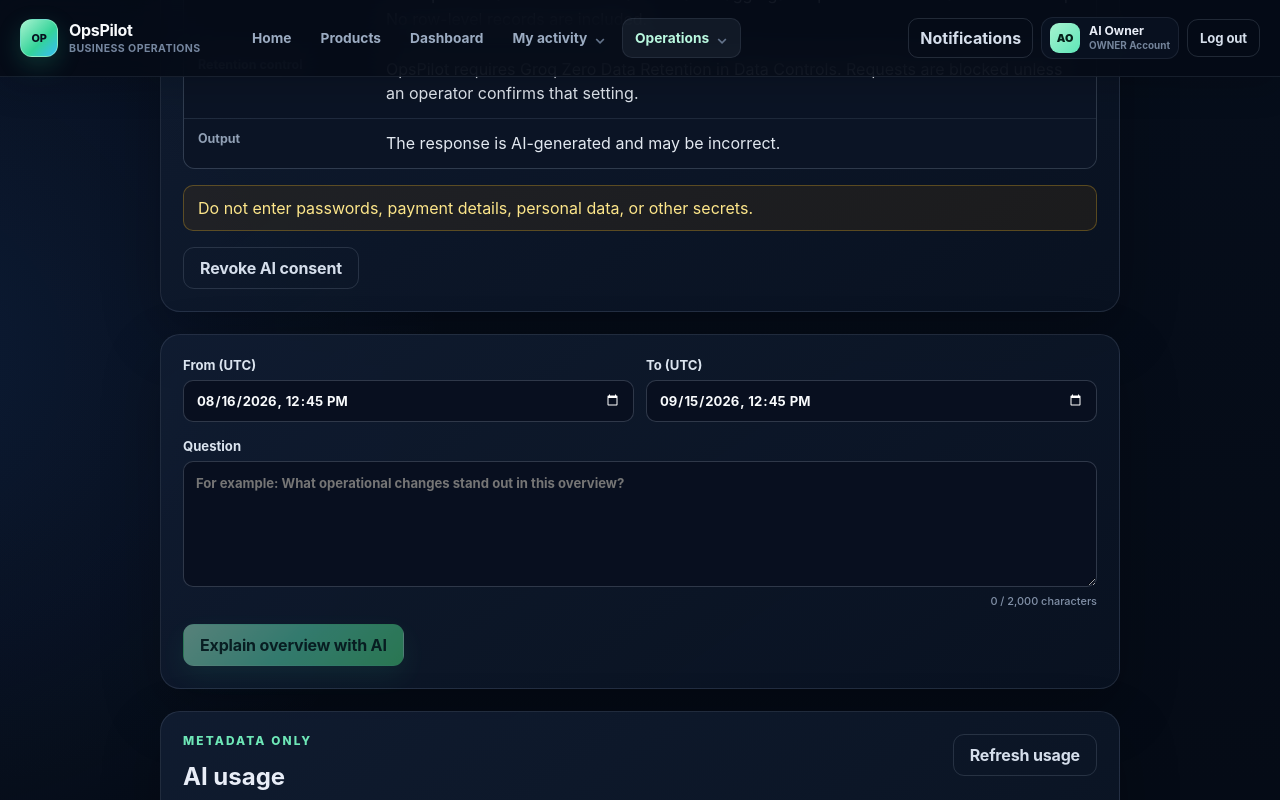
it: Phase 7 AI UI › keeps owner metrics separate, validates UTC range, shows escalation, and loads safe usage
(page scrolled)
Expected: the heading "AI usage" is shown, 183,762 -> 285,790
Replace the text in the field labelled "From (UTC)" with "2026-08-03T00:00": (408, 401) 183,380 -> 634,422
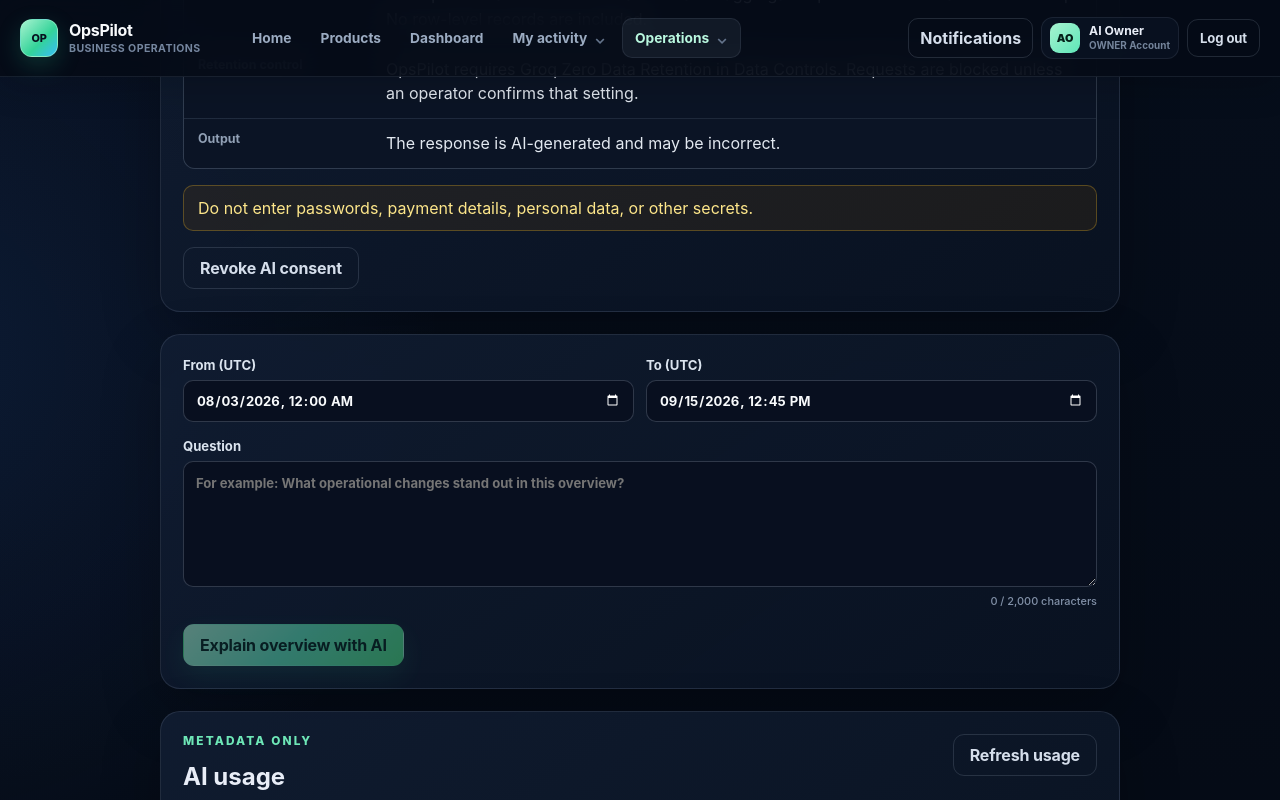
Replace the text in the field labelled "To (UTC)" with "2026-08-02T00:00": (872, 401) 646,380 -> 1097,422
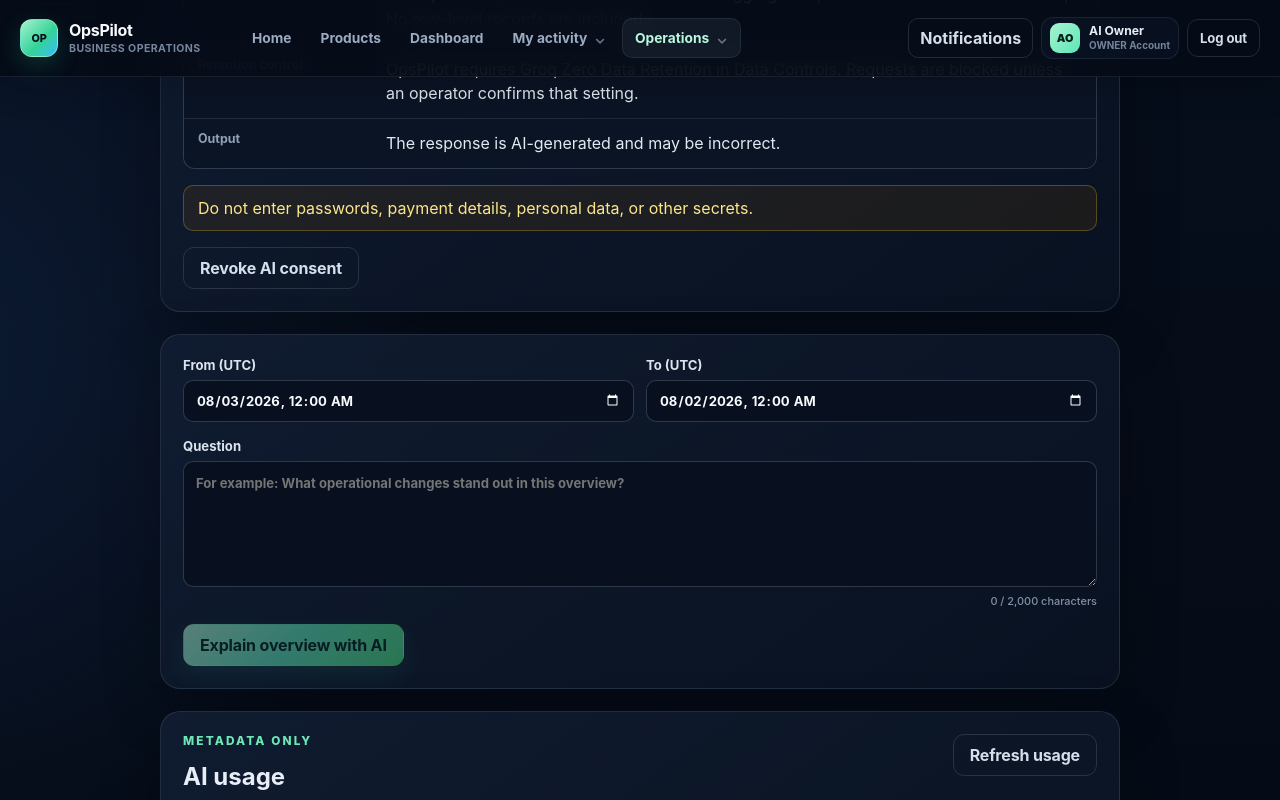
In the text box labelled "Question 0 / 2,000 characters": (640, 524) 183,461 -> 1097,587, type "What changed?"
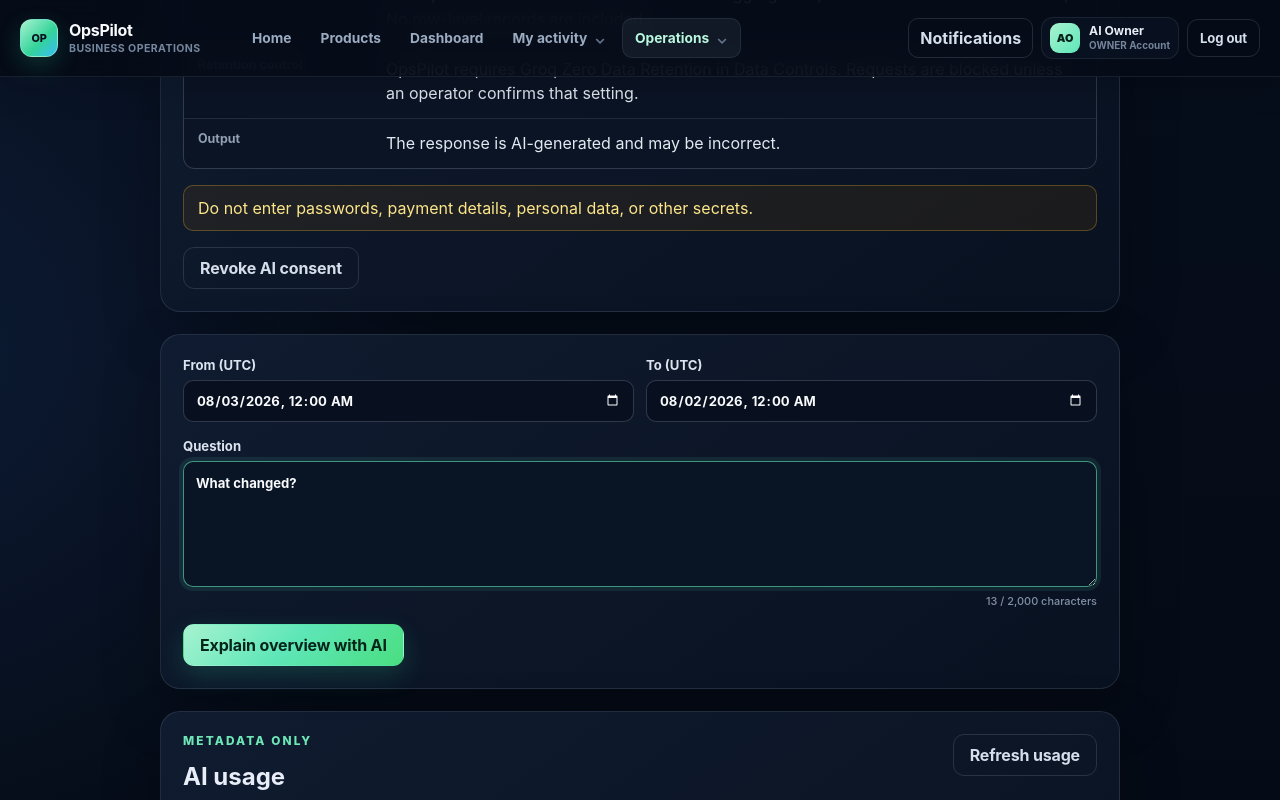
Click the button "Explain overview with AI": (293, 644) 183,624 -> 404,666
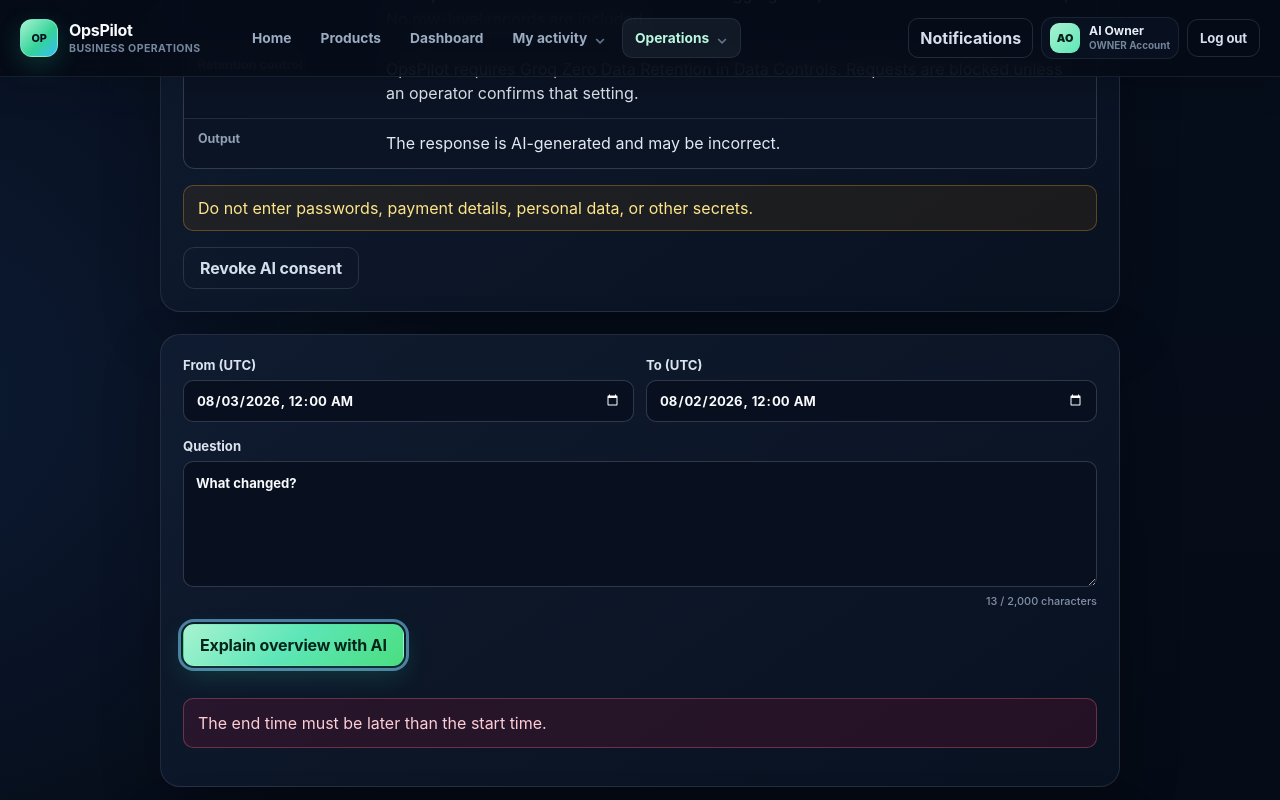
Now the message shows "end time must be later", box 198,712 -> 547,732
Replace the text in the field labelled "From (UTC)" with "2026-08-01T00:00": (408, 401) 183,380 -> 634,422
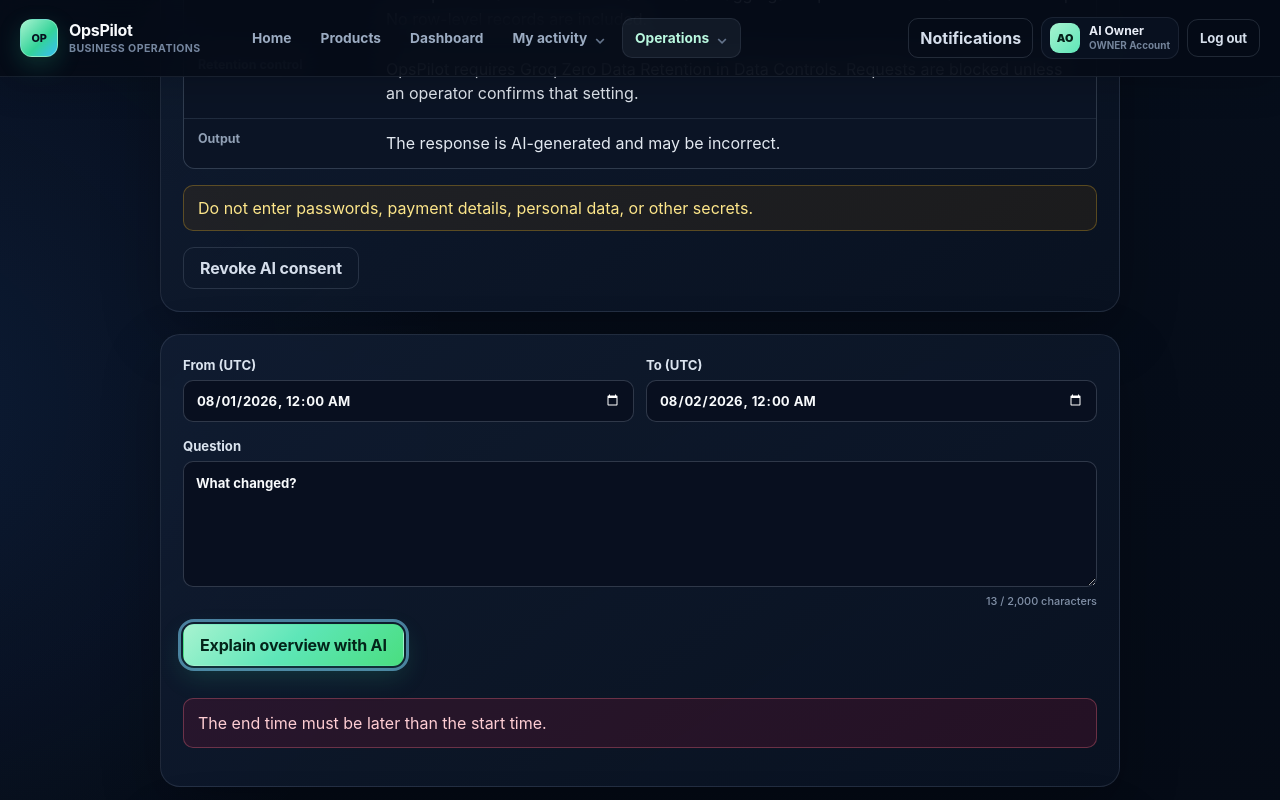
Click the button "Explain overview with AI": (293, 644) 183,624 -> 404,666
(page scrolled)
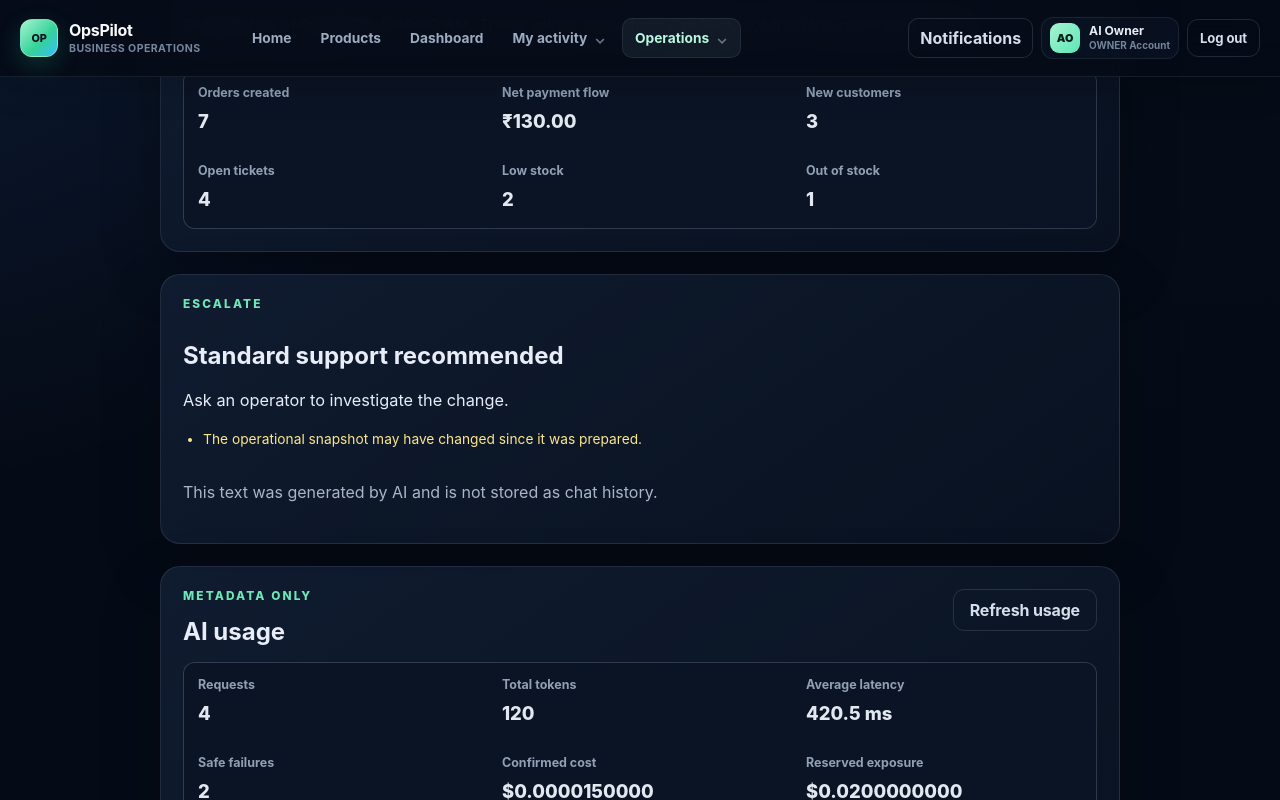
Now the text "7" is shown, box 198,110 -> 209,132
Now the heading "Standard support recommended" is shown, box 183,341 -> 564,370
Now the text "Ask an operator to investigate the change." is shown, box 183,390 -> 509,410
